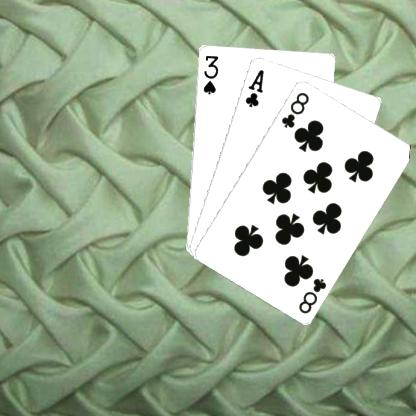3S: (200, 52, 220, 96)
8C: (295, 275, 328, 315), (278, 89, 310, 129)
AC: (243, 67, 266, 108)
